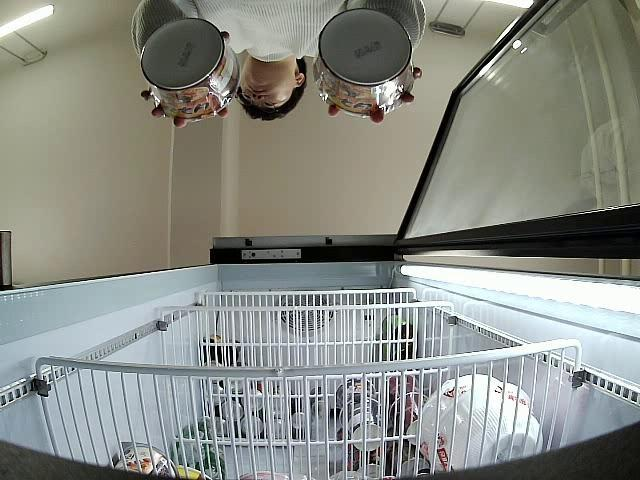05_nuguri_L: (141, 16, 242, 120), (315, 10, 414, 113)
